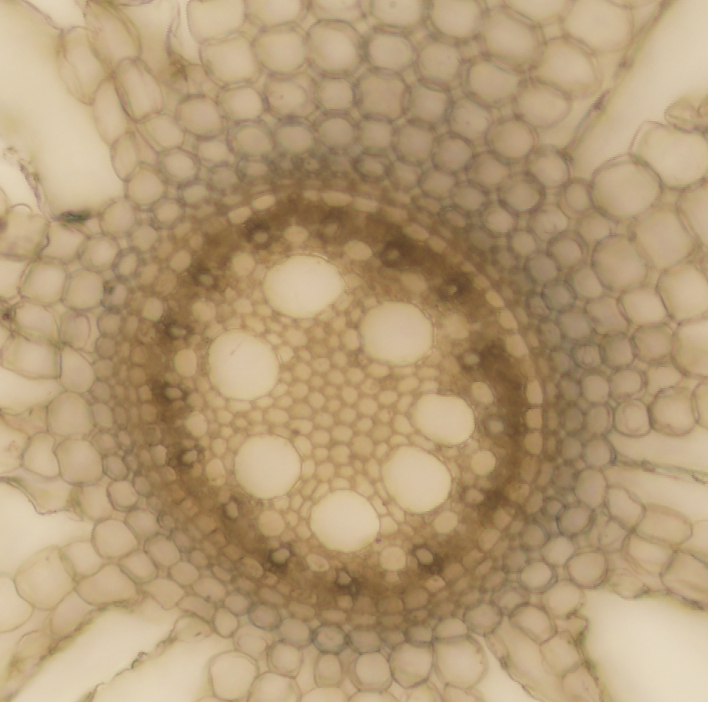lm: (205, 327, 280, 402), (263, 253, 345, 319), (379, 443, 453, 514), (357, 301, 434, 368), (309, 489, 381, 552), (233, 434, 301, 499), (406, 390, 476, 446)
